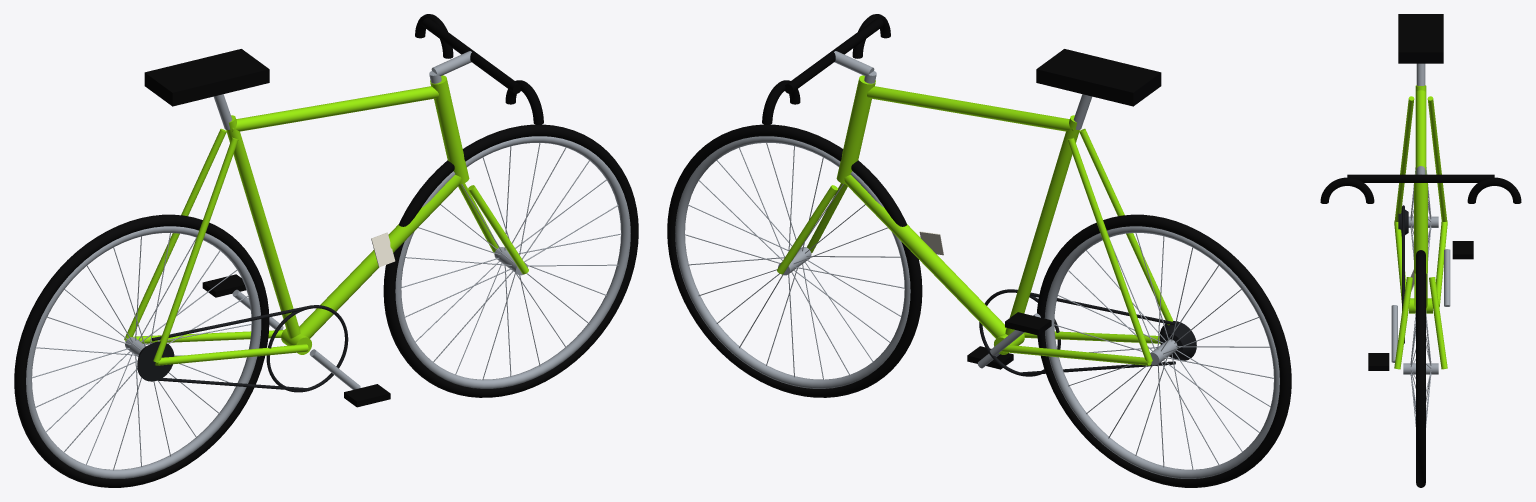
File: loot-bike-comet.obj
The picture shows the model from 3 angles, left to right: view 1: azimuth 30°, elevation 25°; view 2: azimuth 150°, elevation 25°; view 3: azimuth 270°, elevation 25°; orthographic projection. The views are drawn at different scales.
Parts seen in each view (by area): view 1: rear-wheel-tyre, front-wheel-tyre, rear-wheel-rim, front-wheel-rim, saddle, down-tube, seat-tube, top-tube, seatstay-1, head-tube, seatstay-0, chainstay-1 (+8 smaller); view 2: rear-wheel-tyre, front-wheel-tyre, rear-wheel-rim, front-wheel-rim, saddle, down-tube, top-tube, seat-tube, seatstay-0, head-tube, seatstay-1, handlebar-top (+6 smaller); view 3: front-wheel-tyre, saddle, handlebar-top, head-tube, top-tube, seatstay-0, seatstay-1, fork-blade-0, fork-blade-1, drop-0, drop-1, chainstay-0 (+6 smaller).
Part boxes in pixels (x1,y1,x2,y2): rear-wheel-tyre: [14, 214, 269, 487]; front-wheel-tyre: [383, 124, 638, 397]; rear-wheel-rim: [26, 226, 261, 478]; front-wheel-rim: [395, 136, 630, 388]; saddle: [144, 49, 269, 106]; down-tube: [299, 175, 461, 338]; seat-tube: [226, 115, 300, 338]; top-tube: [232, 86, 438, 131]; seatstay-1: [153, 137, 238, 362]; head-tube: [430, 75, 469, 184]; seatstay-0: [124, 128, 226, 340]; chainstay-1: [155, 344, 308, 365]; rear-wheel-tyre: [1037, 214, 1291, 487]; front-wheel-tyre: [667, 124, 922, 397]; rear-wheel-rim: [1044, 226, 1279, 478]; front-wheel-rim: [675, 136, 910, 388]; saddle: [1036, 49, 1161, 106]; down-tube: [844, 175, 1006, 338]; top-tube: [867, 86, 1073, 131]; seat-tube: [1005, 115, 1079, 335]; seatstay-0: [1067, 137, 1152, 362]; head-tube: [836, 75, 875, 184]; seatstay-1: [1079, 128, 1173, 325]; handlebar-top: [785, 18, 883, 93]; front-wheel-tyre: [1416, 250, 1425, 487]; saddle: [1398, 14, 1443, 63]; handlebar-top: [1347, 174, 1494, 182]; head-tube: [1414, 183, 1427, 273]; top-tube: [1415, 90, 1426, 174]; seatstay-0: [1427, 96, 1447, 221]; seatstay-1: [1394, 96, 1414, 221]; fork-blade-0: [1429, 277, 1447, 369]; fork-blade-1: [1394, 277, 1412, 369]; drop-0: [1467, 177, 1521, 203]; drop-1: [1320, 177, 1374, 203]; chainstay-0: [1436, 221, 1447, 306].
Bounding box in the file's own units: 1.67 × 1.02 × 0.574.
